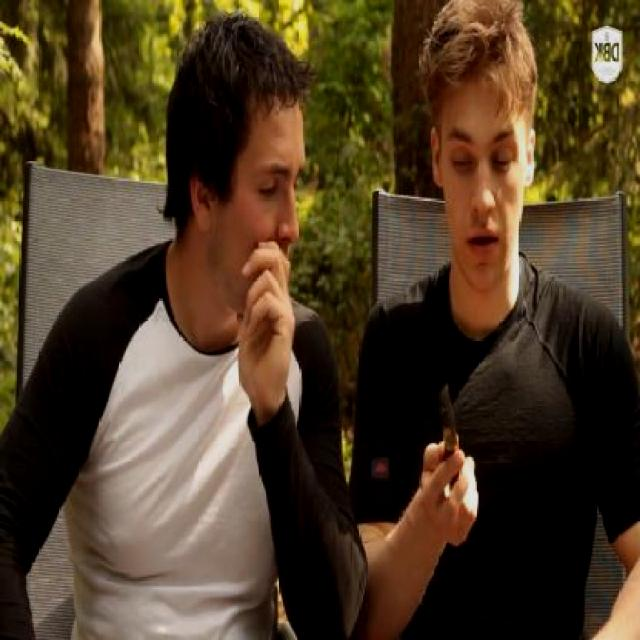knife: (419, 369, 486, 523)
